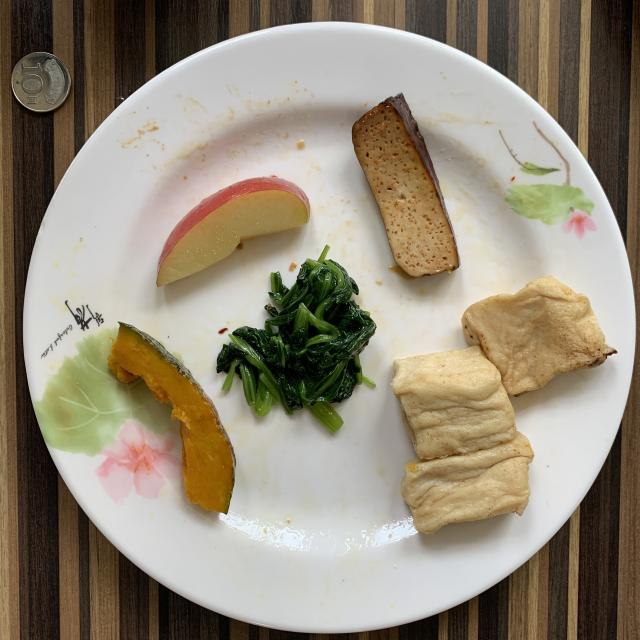apple -sliced-: (156, 178, 310, 286)
coin: (11, 52, 70, 112)
creamy tofu -without sauce-: (392, 278, 616, 534)
firm tofu: (352, 94, 460, 278)
mustard greens: (216, 246, 376, 432)
pumpkin: (108, 322, 235, 514)
